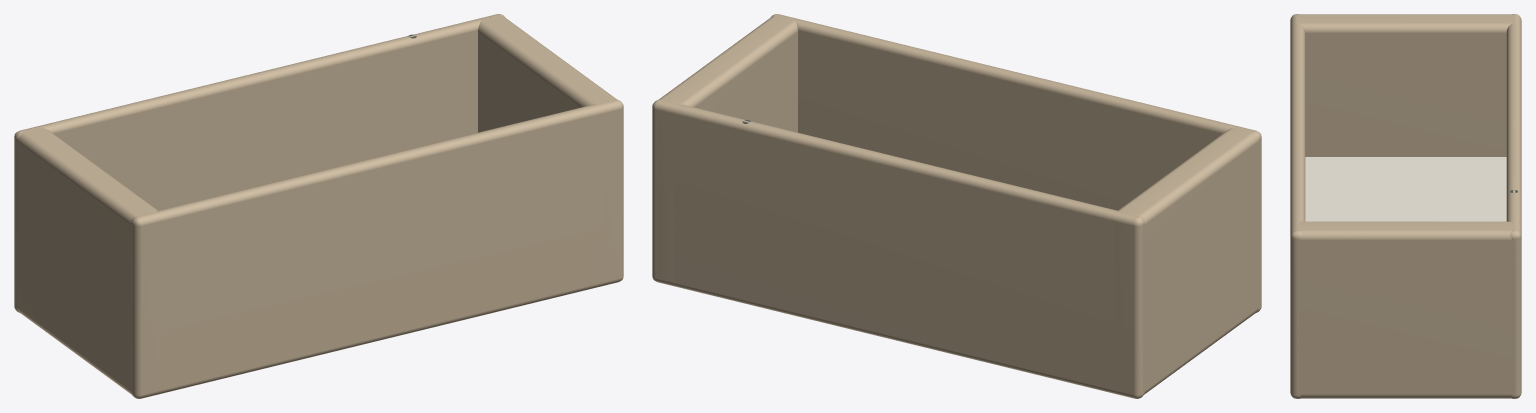
3 renders of one model, left to right at view 1: azimuth 30°, elevation 25°; view 2: azimuth 150°, elevation 25°; view 3: azimuth 270°, elevation 25°, orthographic. The views are drawn at different scales.
Parts seen in each view (by area): view 1: rim_z_1, rim_z_-1, rim_x_-1, rim_x_1; view 2: rim_z_-1, rim_z_1, rim_x_-1, rim_x_1; view 3: rim_x_1, rim_x_-1, basin, rim_z_1, rim_z_-1.
Boxes of the visible parts, box(x1,y1,x2,y2) form: rim_z_1: box(131, 99, 623, 398); rim_z_-1: box(14, 14, 505, 312); rim_x_-1: box(16, 127, 160, 394); rim_x_1: box(478, 15, 618, 280); rim_z_-1: box(652, 99, 1144, 398); rim_z_1: box(770, 14, 1261, 312); rim_x_-1: box(1115, 127, 1259, 394); rim_x_1: box(657, 15, 797, 281); rim_x_1: box(1298, 221, 1513, 398); rim_x_-1: box(1298, 14, 1513, 156); basin: box(1305, 157, 1506, 221); rim_z_1: box(1290, 14, 1305, 398); rim_z_-1: box(1506, 14, 1521, 398).
Size of the model in its own units: 1.7 by 0.6 by 0.75.
